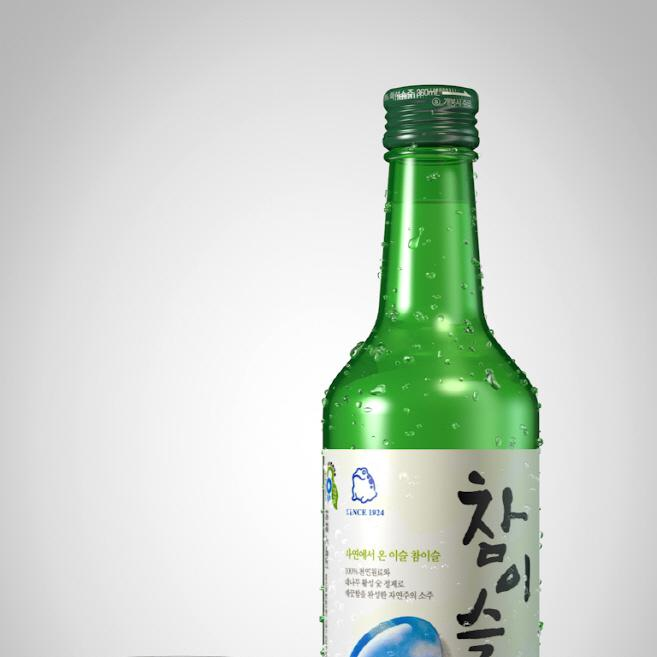soju: (316, 82, 544, 657)
